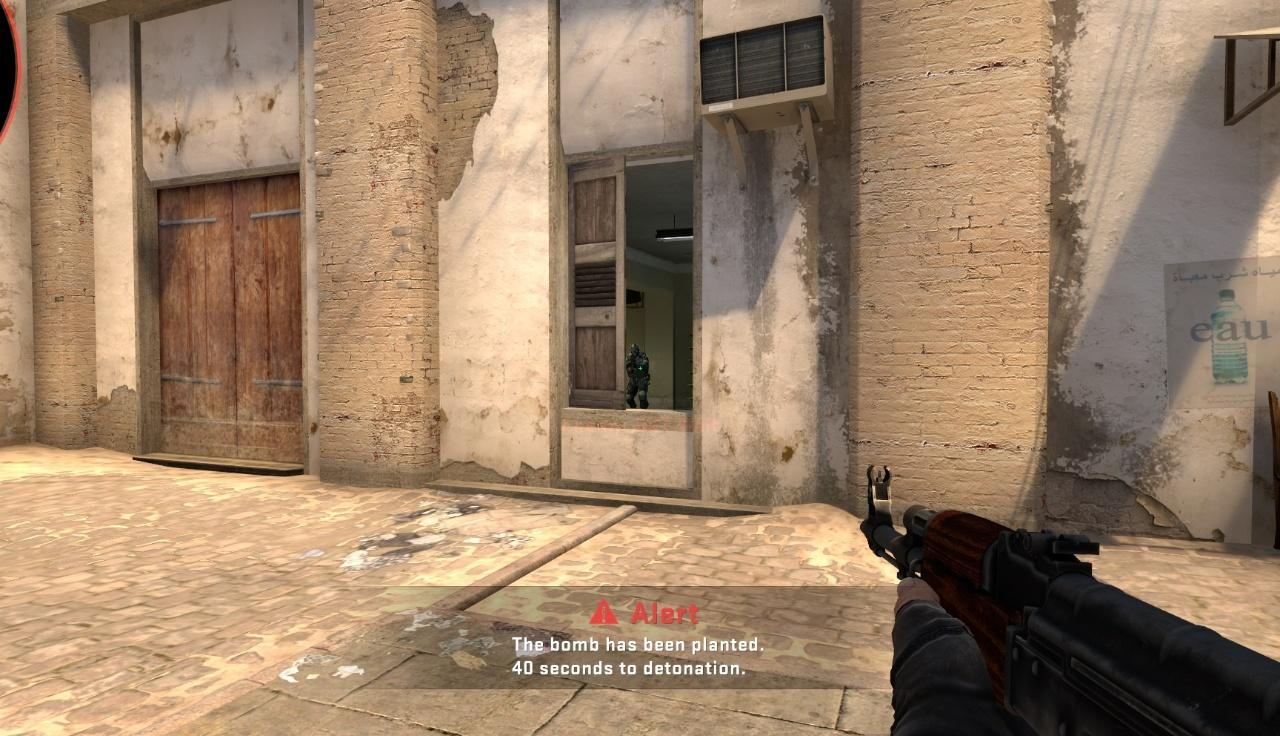ct: (626, 343, 651, 410)
cthead: (630, 342, 641, 355)
rifle: (859, 464, 1280, 736)
